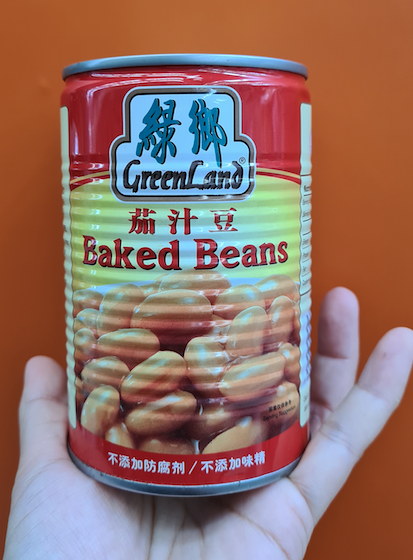Canned_Baked_Beans: (69, 67, 310, 480)
